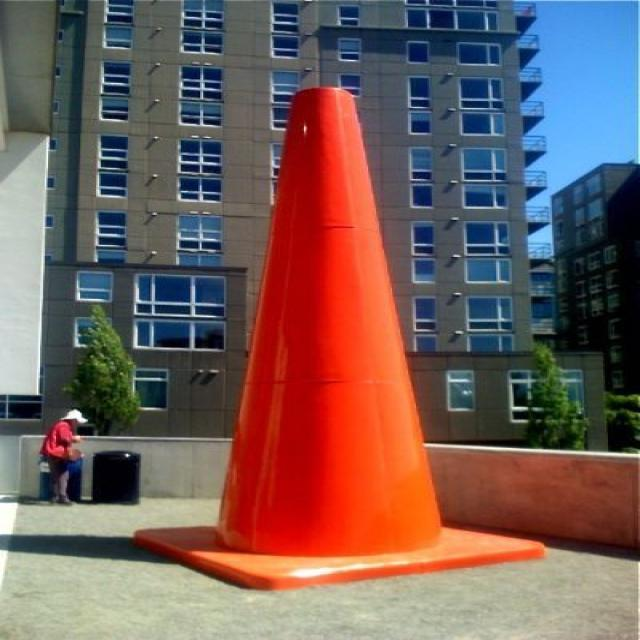Traffic Cone: (123, 39, 567, 598)
